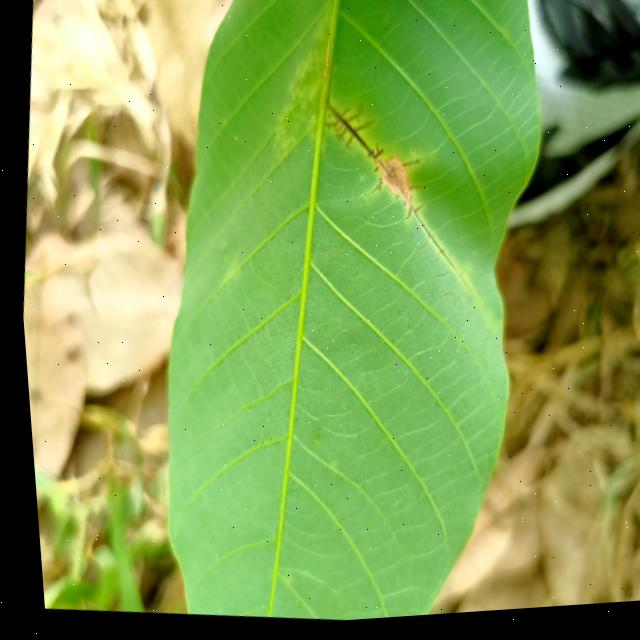Corynespora: (306, 98, 464, 278)
